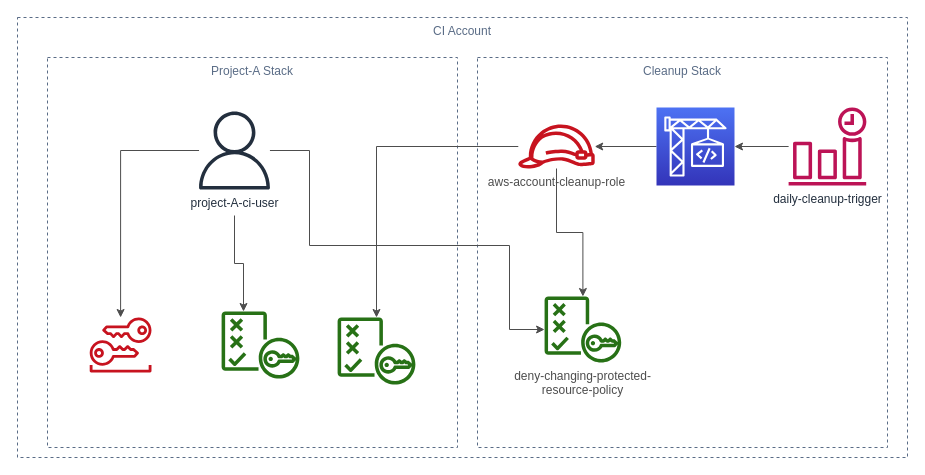
Image size: 925x475. Some labels were removed from this diagram. The shapes that lost their labels are listed below. From the top down, each one's centre as x and y in pixels, then its label:
At pixel 695 146: "aws-account-cleanup".
At pixel 120 344: "login-credentials".
At pixel 260 344: "project-A- ci-policy".
At pixel 376 350: "project-A- cleanup-policy".
